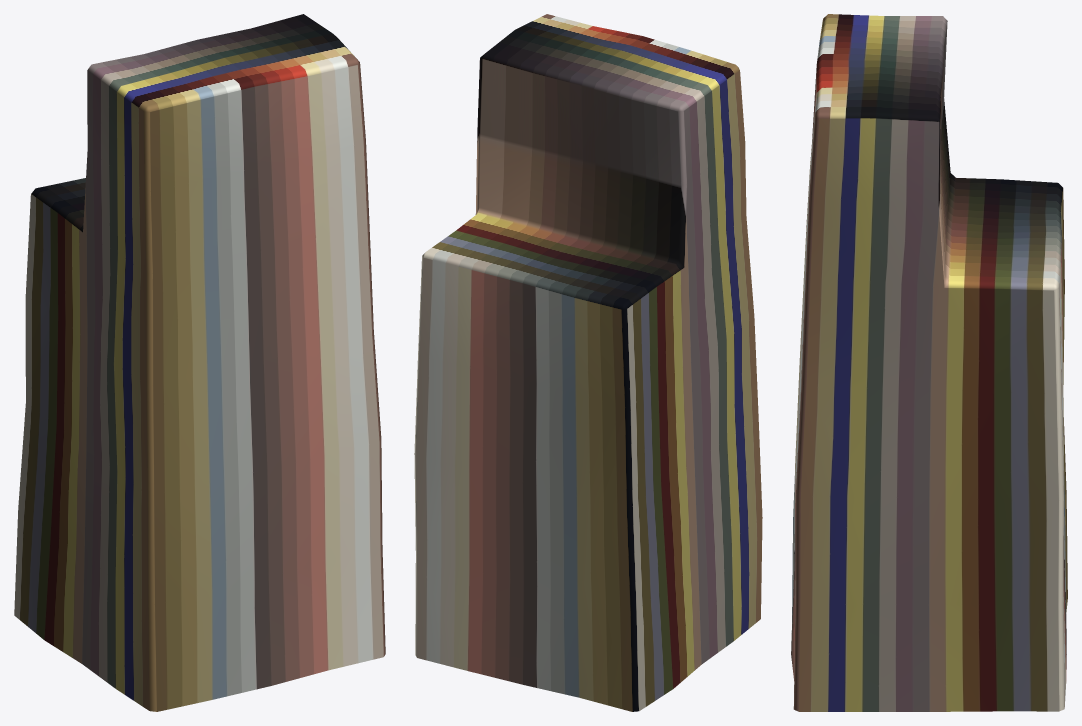
File: MSH_Building_006.glb
The picture shows the model from 3 angles, left to right: view 1: azimuth 30°, elevation 25°; view 2: azimuth 150°, elevation 25°; view 3: azimuth 270°, elevation 25°; orthographic projection. The views are drawn at different scales.
Parts seen in each view (by area): view 1: Base.014; view 2: Base.014; view 3: Base.014.
Boxes of the visible parts, x1,y1,x2,y2 form: Base.014: (14,14,385,711); Base.014: (414,14,762,711); Base.014: (791,14,1067,711).
Bounding box in the file's own units: 5.17 × 12.15 × 5.14.
1 material, 1 textured.
